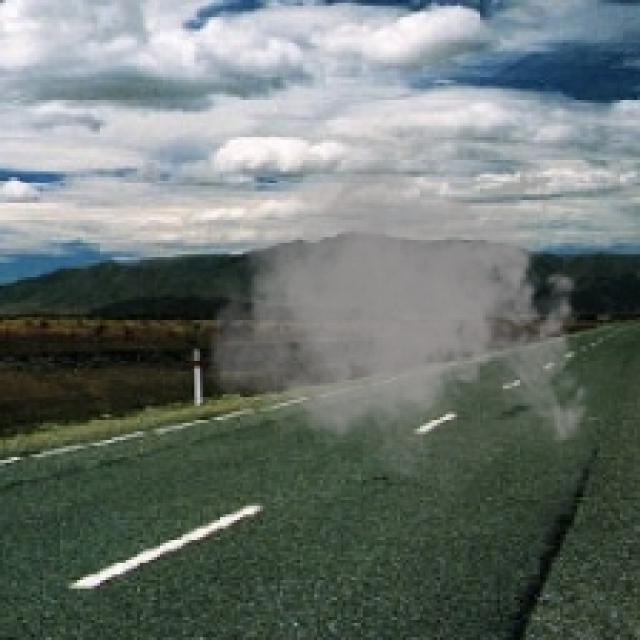smoke: (203, 97, 600, 503)
